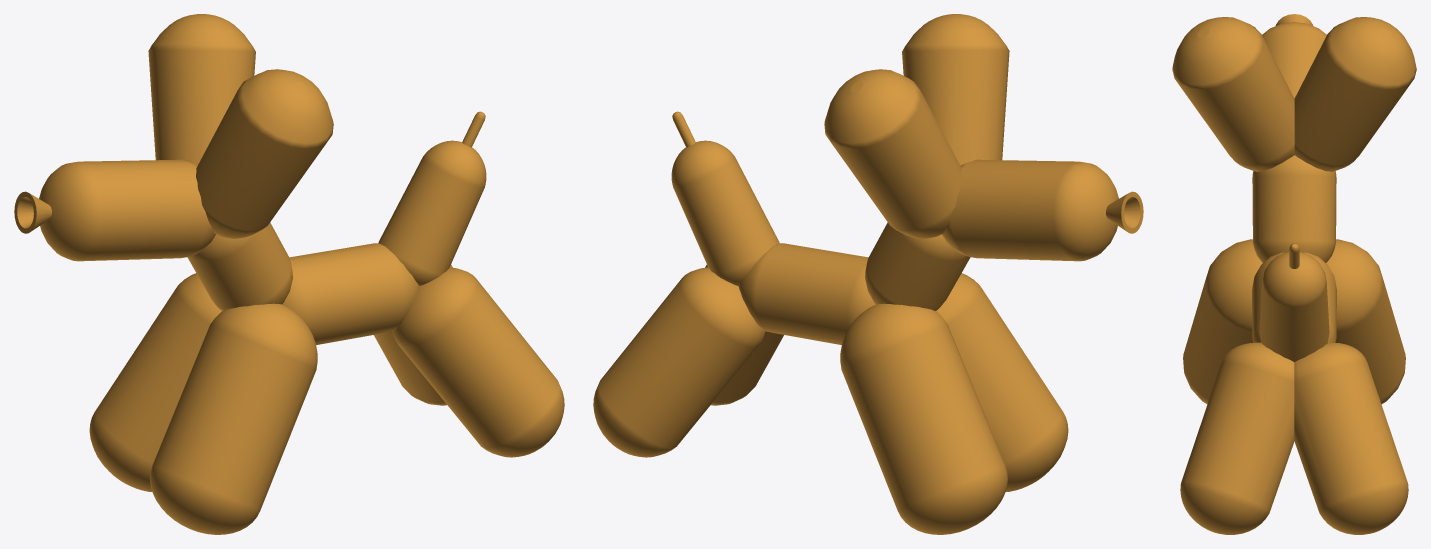
The model's file is GOLD DOG.fbx.
The picture shows the model from 3 angles, left to right: view 1: azimuth 30°, elevation 25°; view 2: azimuth 150°, elevation 25°; view 3: azimuth 270°, elevation 25°; orthographic projection. The views are drawn at different scales.
Visible parts, largest first — view 1: polySurface27; view 2: polySurface27; view 3: polySurface27.
Part boxes in pixels (x1,y1,x2,y2): polySurface27: (14,14,564,534); polySurface27: (593,14,1143,534); polySurface27: (1172,14,1416,534).
Bounding box in the file's own units: 9.35 × 8.01 × 4.3.
